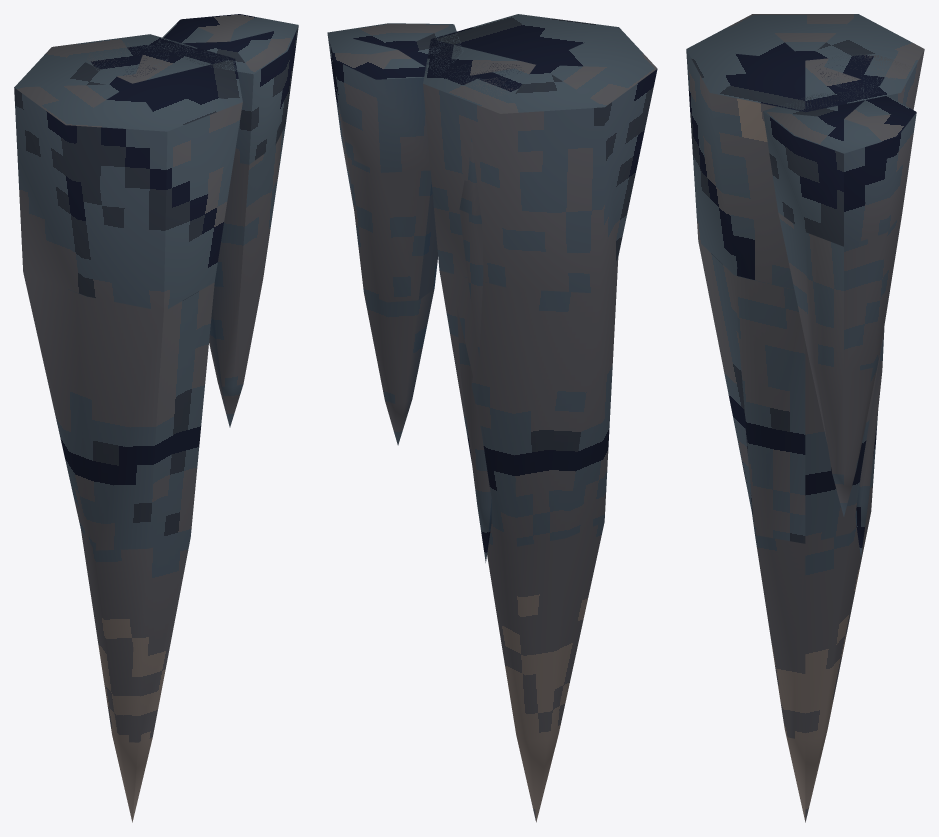
The model's file is cave.spike__stalactite.glb.
3 views of the same model, side by side, from view 1: azimuth 30°, elevation 25°; view 2: azimuth 150°, elevation 25°; view 3: azimuth 270°, elevation 25° (orthographic). The views are drawn at different scales.
Visible parts, largest first — view 1: kit_dripstone; view 2: kit_dripstone; view 3: kit_dripstone.
Part boxes in pixels (box(x1,y1,x2,y2)): kit_dripstone: box(14, 14, 298, 822); kit_dripstone: box(327, 14, 657, 822); kit_dripstone: box(686, 14, 924, 822).
Bounding box in the file's own units: 0.8646 × 2.2 × 0.624.
Materials: 1 (1 with a texture image).
